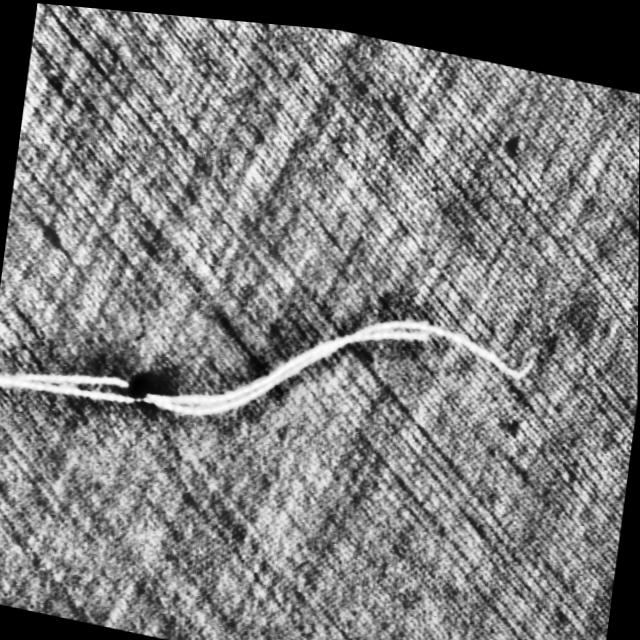Stitch: (0, 218, 545, 496)
